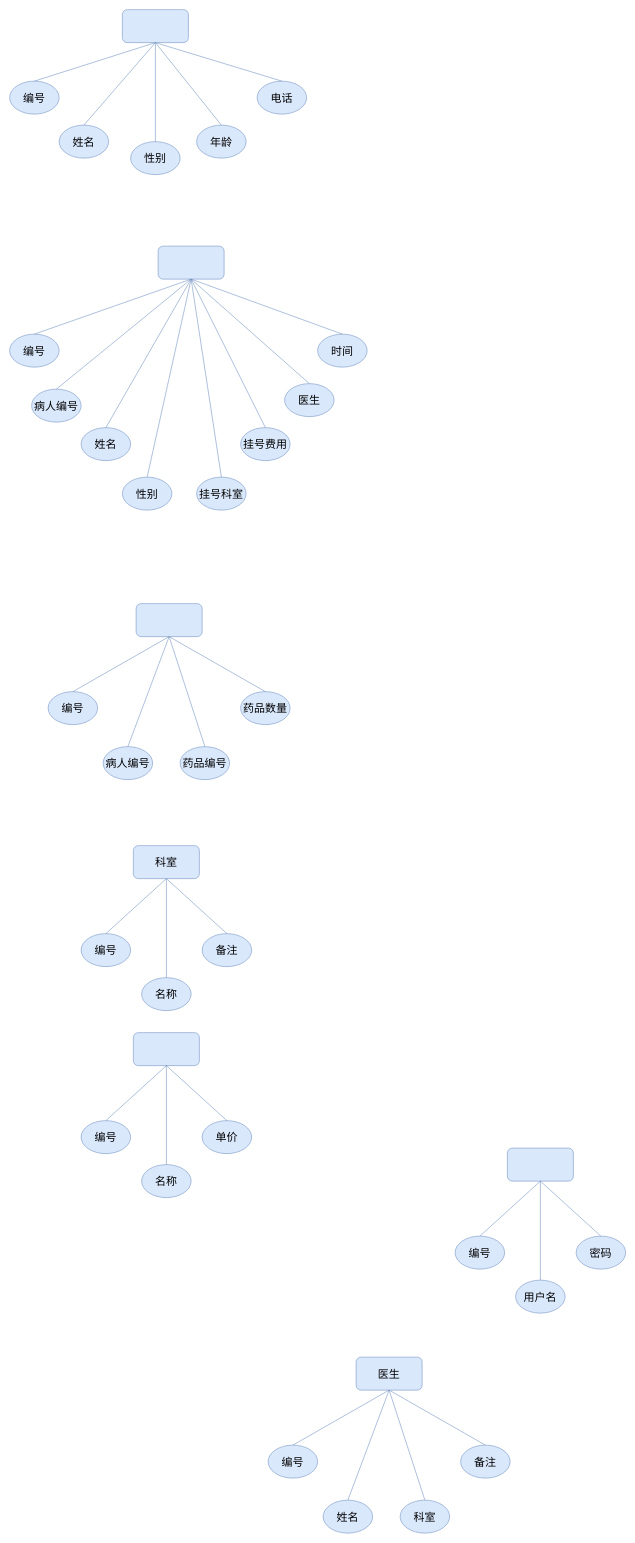
The diagram is 635 pixels wide and 1543 high, and some of its shapes have lost their labels. Here are the shapes that lost their labels. From the top down, the centre of each, then its label:
At (x=155, y=26): "患者".
At (x=191, y=262): "挂号".
At (x=169, y=620): "诊断".
At (x=166, y=1049): "药品".
At (x=540, y=1164): "指定用户".
